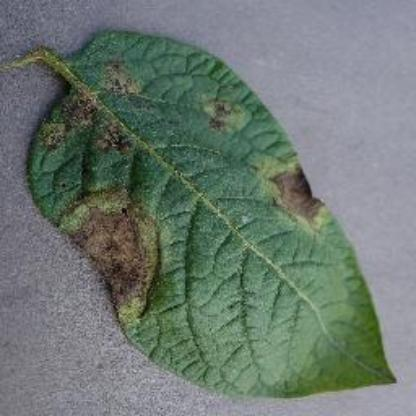Late-Blight: (14, 19, 402, 400)
